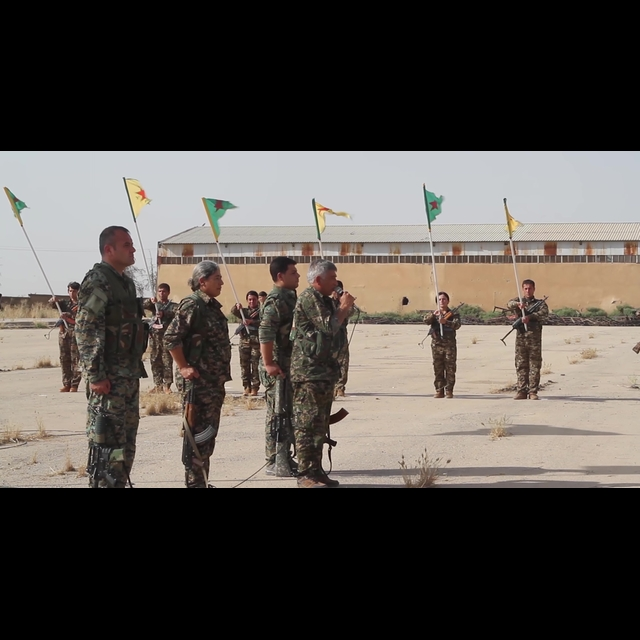AK47: (177, 368, 215, 487), (418, 301, 469, 342), (505, 295, 557, 333)
YPJ: (419, 178, 454, 227)
